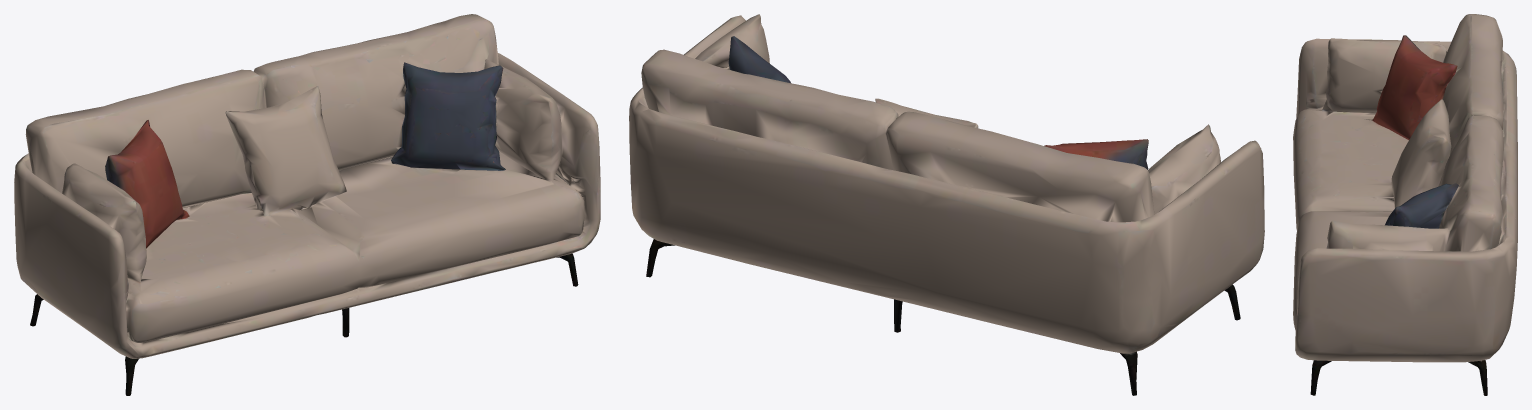
File: furnimesh-sofa-sculpted.glb
The picture shows the model from 3 angles, left to right: view 1: azimuth 30°, elevation 25°; view 2: azimuth 150°, elevation 25°; view 3: azimuth 270°, elevation 25°; orthographic projection. The views are drawn at different scales.
Parts seen in each view (by area): view 1: sofa-sculpted-normalized; view 2: sofa-sculpted-normalized; view 3: sofa-sculpted-normalized.
Boxes of the visible parts, x1,y1,x2,y2 form: sofa-sculpted-normalized: [14, 14, 600, 395]; sofa-sculpted-normalized: [629, 14, 1264, 395]; sofa-sculpted-normalized: [1293, 14, 1517, 395].
Bounding box in the file's own units: 2.05 × 0.82 × 0.9001.
Materials: 1 (1 with a texture image).
